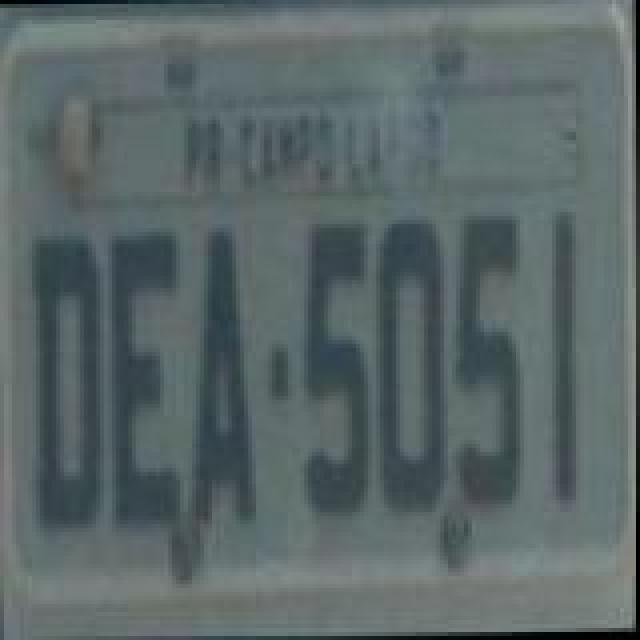1: (548, 200, 584, 504)
5: (452, 210, 528, 514), (302, 210, 374, 522)
A: (186, 220, 258, 532)
D: (32, 232, 112, 536)
E: (106, 230, 182, 530)
O: (378, 214, 450, 514)
